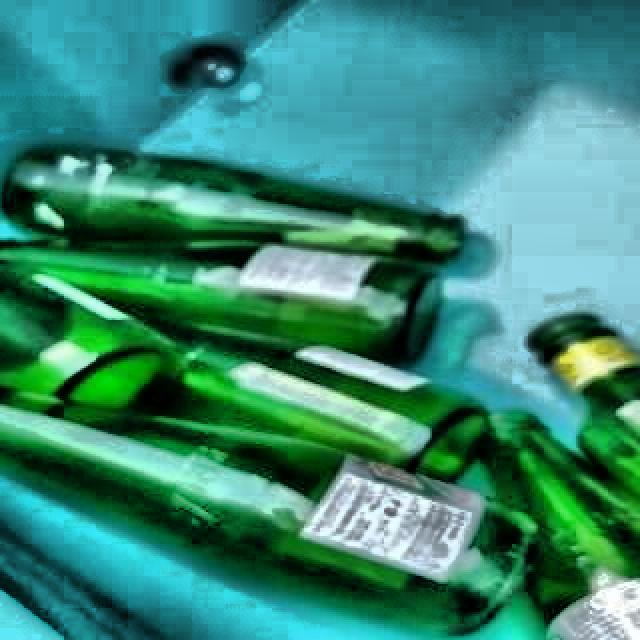glass: (0, 146, 640, 640)
